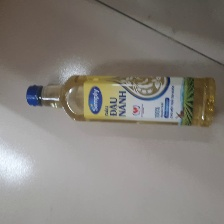Simply: (19, 72, 218, 128)
